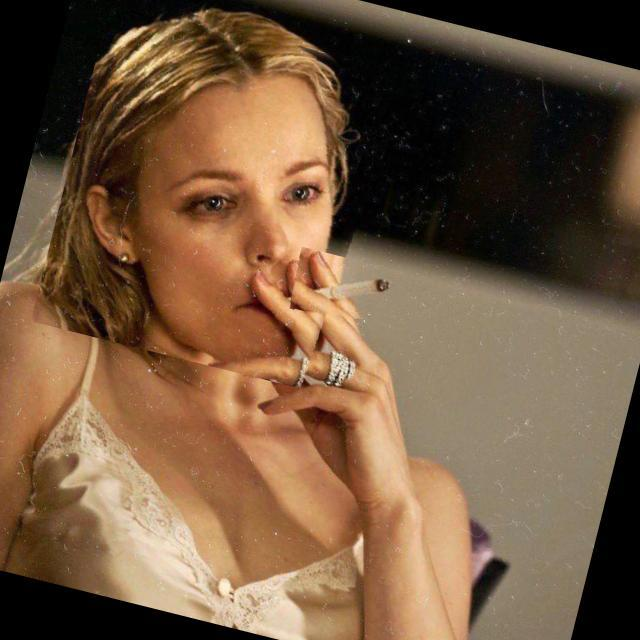cigarette: (286, 246, 409, 334)
